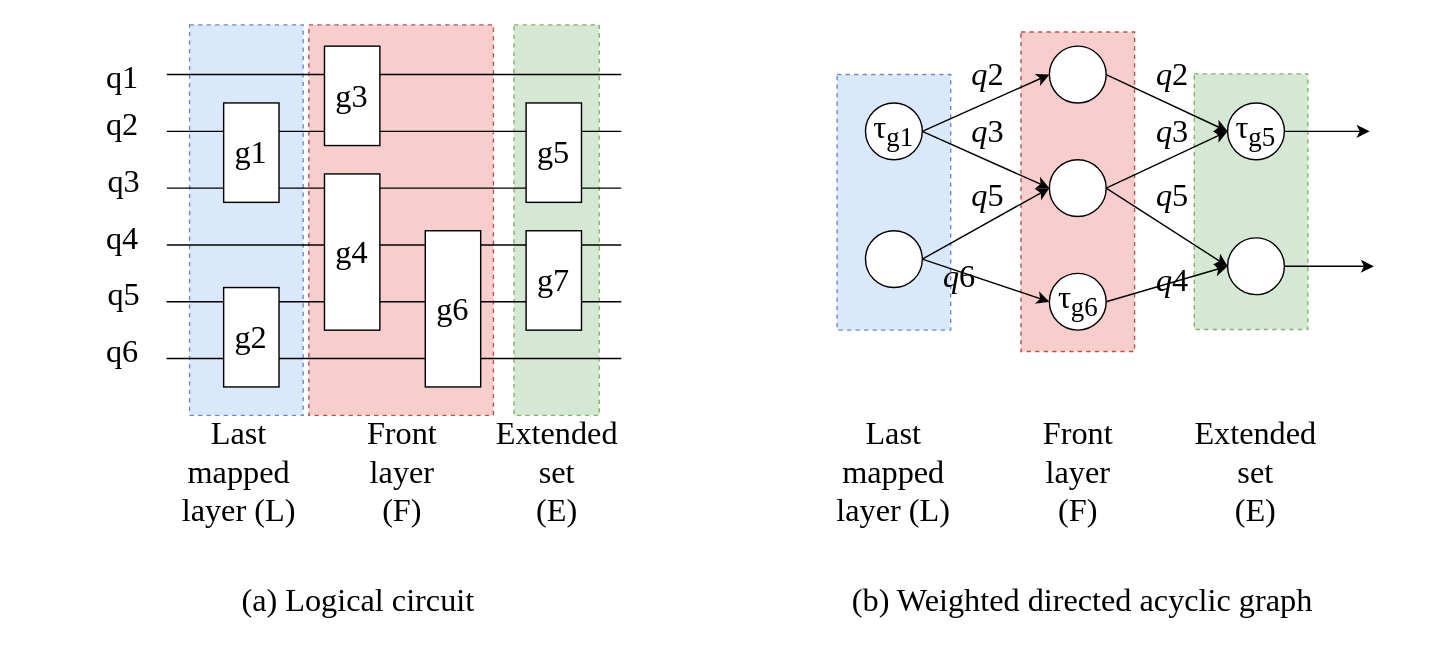
This 1440x653 diagram has some shape labels left out. The centre of each missing label's shape, as x and y in pixels:
τ g2: pixel 893 258
τ g3: pixel 1077 74
τ g4: pixel 1077 187
τ g7: pixel 1255 265
